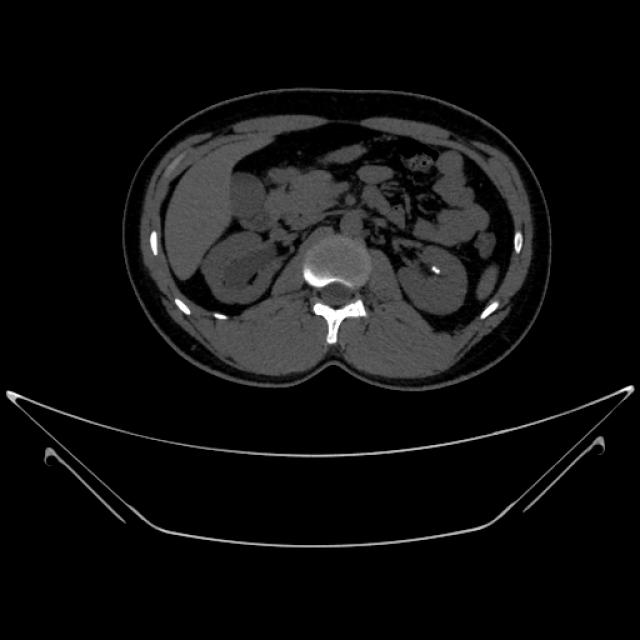kidney: (200, 232, 293, 305), (399, 238, 469, 316)
stone: (431, 264, 444, 274)
